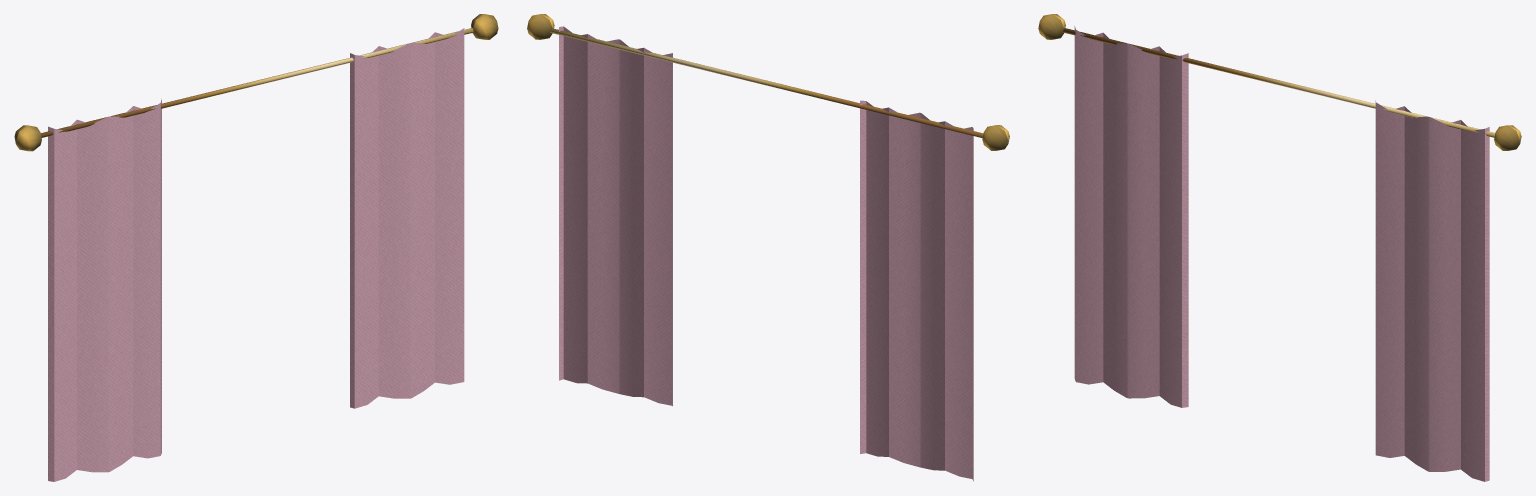
The model's file is Straight_Curtains_09.FBX.
The picture shows the model from 3 angles, left to right: view 1: azimuth 30°, elevation 25°; view 2: azimuth 150°, elevation 25°; view 3: azimuth 330°, elevation 25°; orthographic projection.
Visible parts, largest first — view 1: Straight_Curtain; view 2: Straight_Curtain; view 3: Straight_Curtain.
Boxes of the visible parts, x1=… form: Straight_Curtain: x1=14, y1=14, x2=498, y2=481; Straight_Curtain: x1=527, y1=14, x2=1009, y2=481; Straight_Curtain: x1=1038, y1=14, x2=1521, y2=481.
Size of the model in its own units: 582 by 421 by 29.96.
